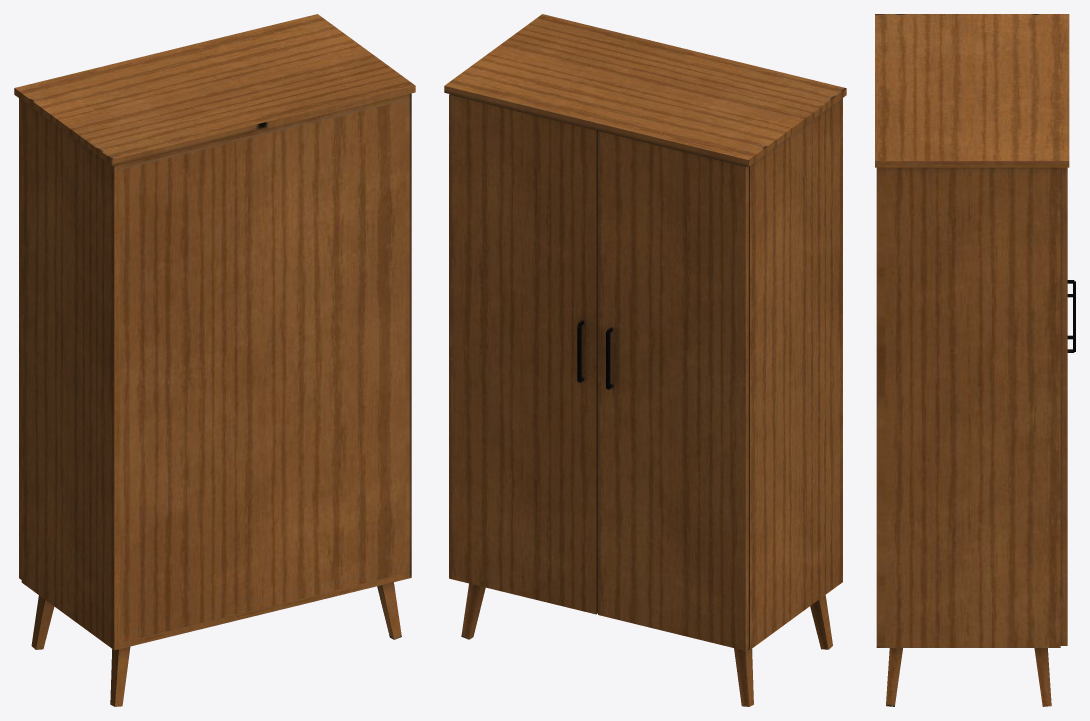
File: wardrobe_legs_web.glb
3 views of the same model, side by side, from view 1: azimuth 30°, elevation 25°; view 2: azimuth 150°, elevation 25°; view 3: azimuth 270°, elevation 25° (orthographic).
Visible parts, largest first — view 1: WardrobeLegs_Body, Door_R_Mesh; view 2: WardrobeLegs_Body, Door_R_Mesh, Door_L_Mesh; view 3: WardrobeLegs_Body, Door_L_Mesh.
Part boxes in pixels (left/top/right/bottom): WardrobeLegs_Body: left=14, top=14, right=415, bottom=706; Door_R_Mesh: left=19, top=98, right=21, bottom=579; WardrobeLegs_Body: left=444, top=14, right=846, bottom=706; Door_R_Mesh: left=598, top=130, right=748, bottom=650; Door_L_Mesh: left=449, top=94, right=598, bottom=614; WardrobeLegs_Body: left=875, top=14, right=1069, bottom=706; Door_L_Mesh: left=1060, top=167, right=1075, bottom=645.
Bounding box in the file's own units: 1.02 × 1.79 × 0.5895.
Materials: 1 (1 with a texture image).
